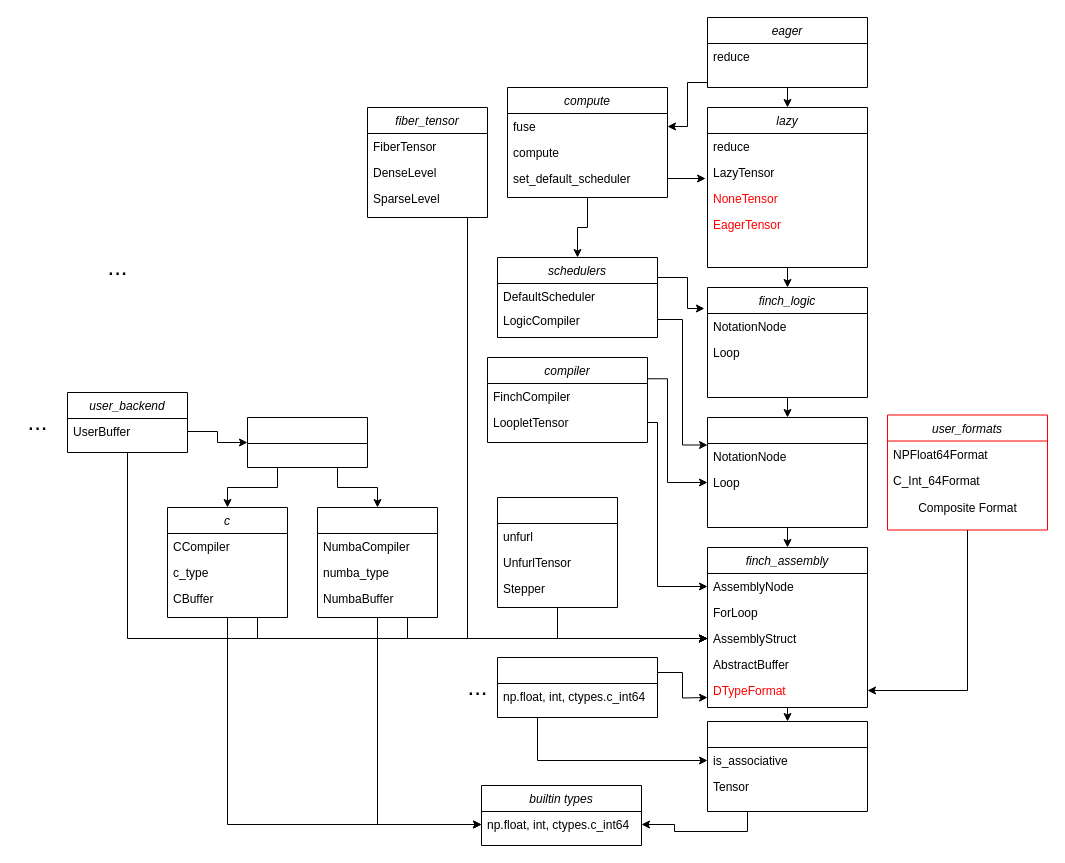
This 1065x863 diagram has some shape labels left out. The box of each missing label's shape, as (x1, y1, x2, y2) in pixels:
Algebra: (706, 720, 868, 812)
finch_notation: (706, 416, 868, 528)
looplets: (496, 496, 618, 608)
numba_backend: (316, 506, 438, 618)
NumpyBuffer: (246, 416, 368, 468)
user_element_types: (496, 656, 658, 718)
